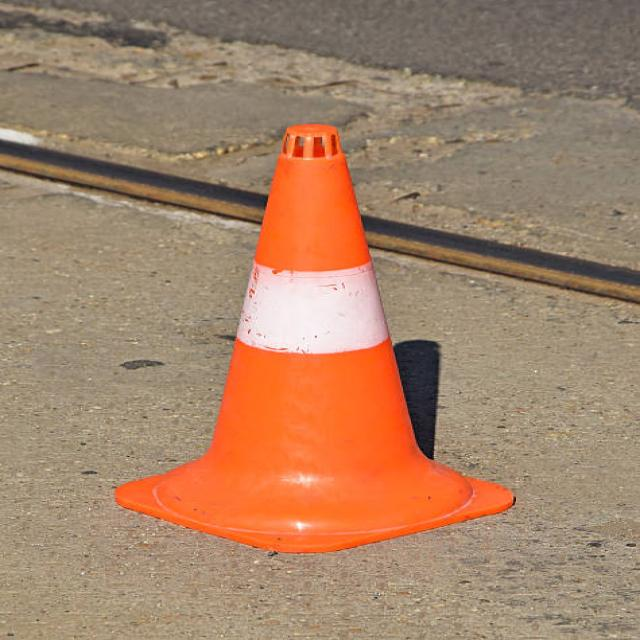Traffic Cone: (106, 94, 532, 584)
